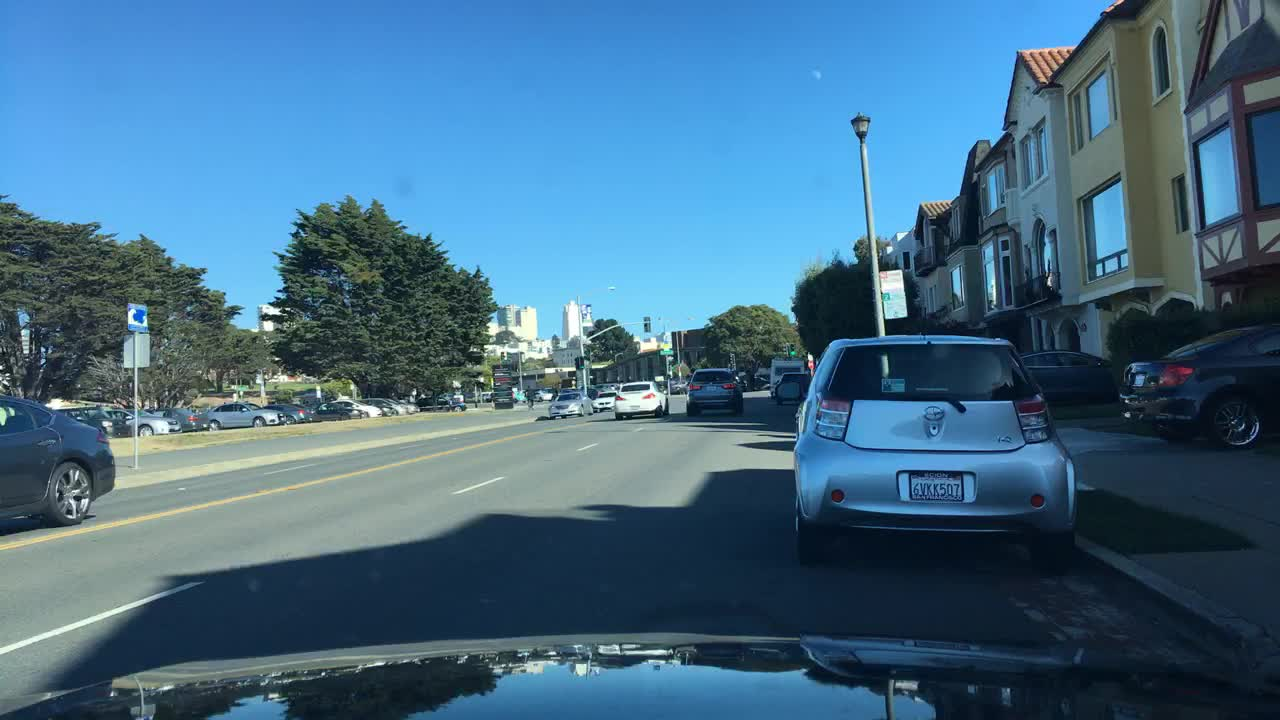bike: (524, 395, 536, 410)
car: (790, 337, 1077, 577), (1117, 322, 1278, 445), (0, 391, 116, 525), (1020, 347, 1110, 405), (608, 378, 671, 422), (687, 367, 745, 414), (64, 404, 129, 436), (207, 400, 273, 426), (123, 403, 174, 435), (150, 404, 204, 430), (267, 399, 317, 421), (357, 394, 410, 414), (548, 391, 590, 416), (776, 372, 809, 401), (419, 392, 464, 413), (322, 399, 376, 414), (590, 390, 612, 409), (670, 374, 687, 390), (392, 399, 419, 409)
rider: (524, 386, 536, 401)
traffic light: (572, 354, 582, 368), (642, 314, 649, 332)
traffic sign: (877, 266, 907, 316), (120, 331, 149, 365), (125, 301, 149, 327), (656, 347, 673, 355)
truck: (772, 356, 803, 386)
